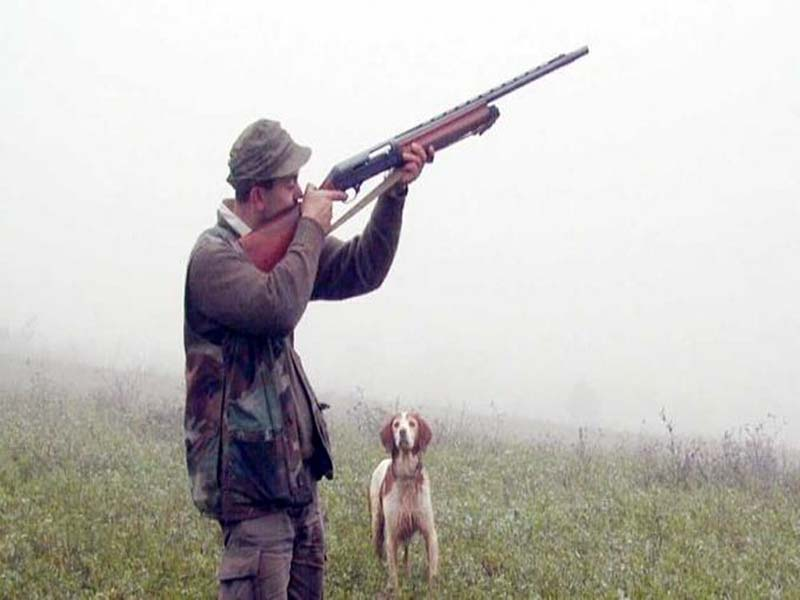cacciatore: (182, 14, 629, 390)
cane da caccia: (354, 408, 452, 582)
fucile: (226, 38, 607, 284)
